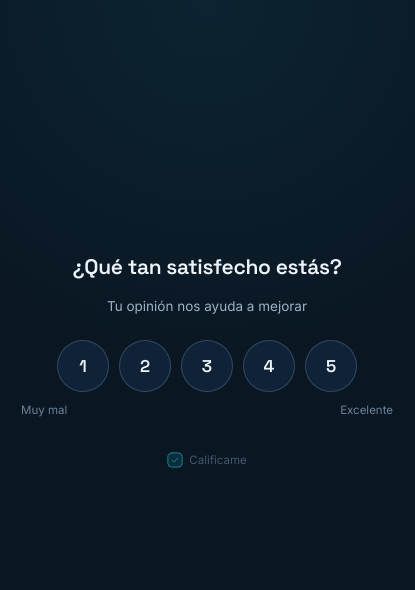
Test case: Redirect — WiFi tras la encuesta › camino público con WiFi: muestra el WiFi y el botón a Google en vez de redirigir solo
Click the button named "Calificar 5 de 5".
click(331, 366)  # box [305,340,357,392]
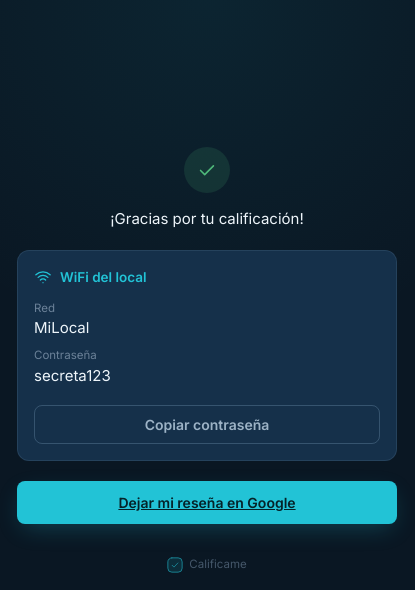
Now the text "MiLocal" is shown, box [34,318,89,337]
